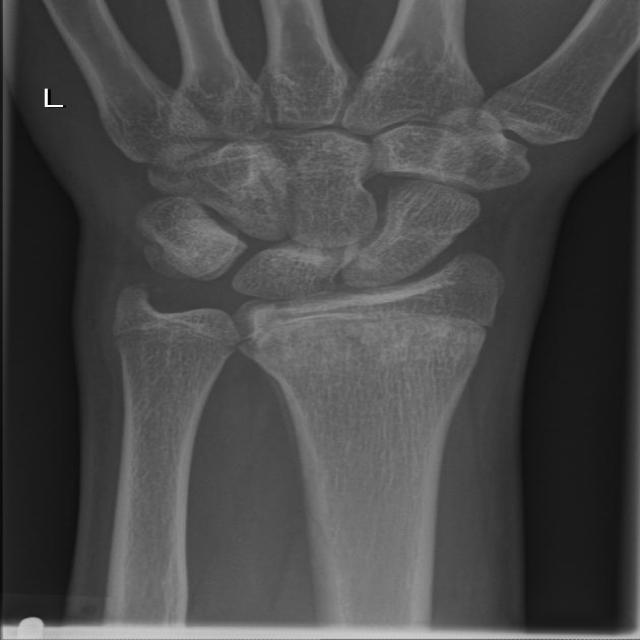fracture: (223, 296, 510, 361), (103, 308, 246, 365)
